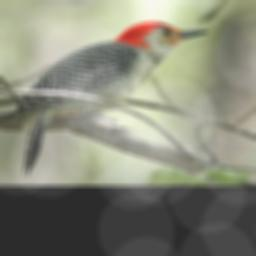Woodpecker: (0, 21, 209, 176)
